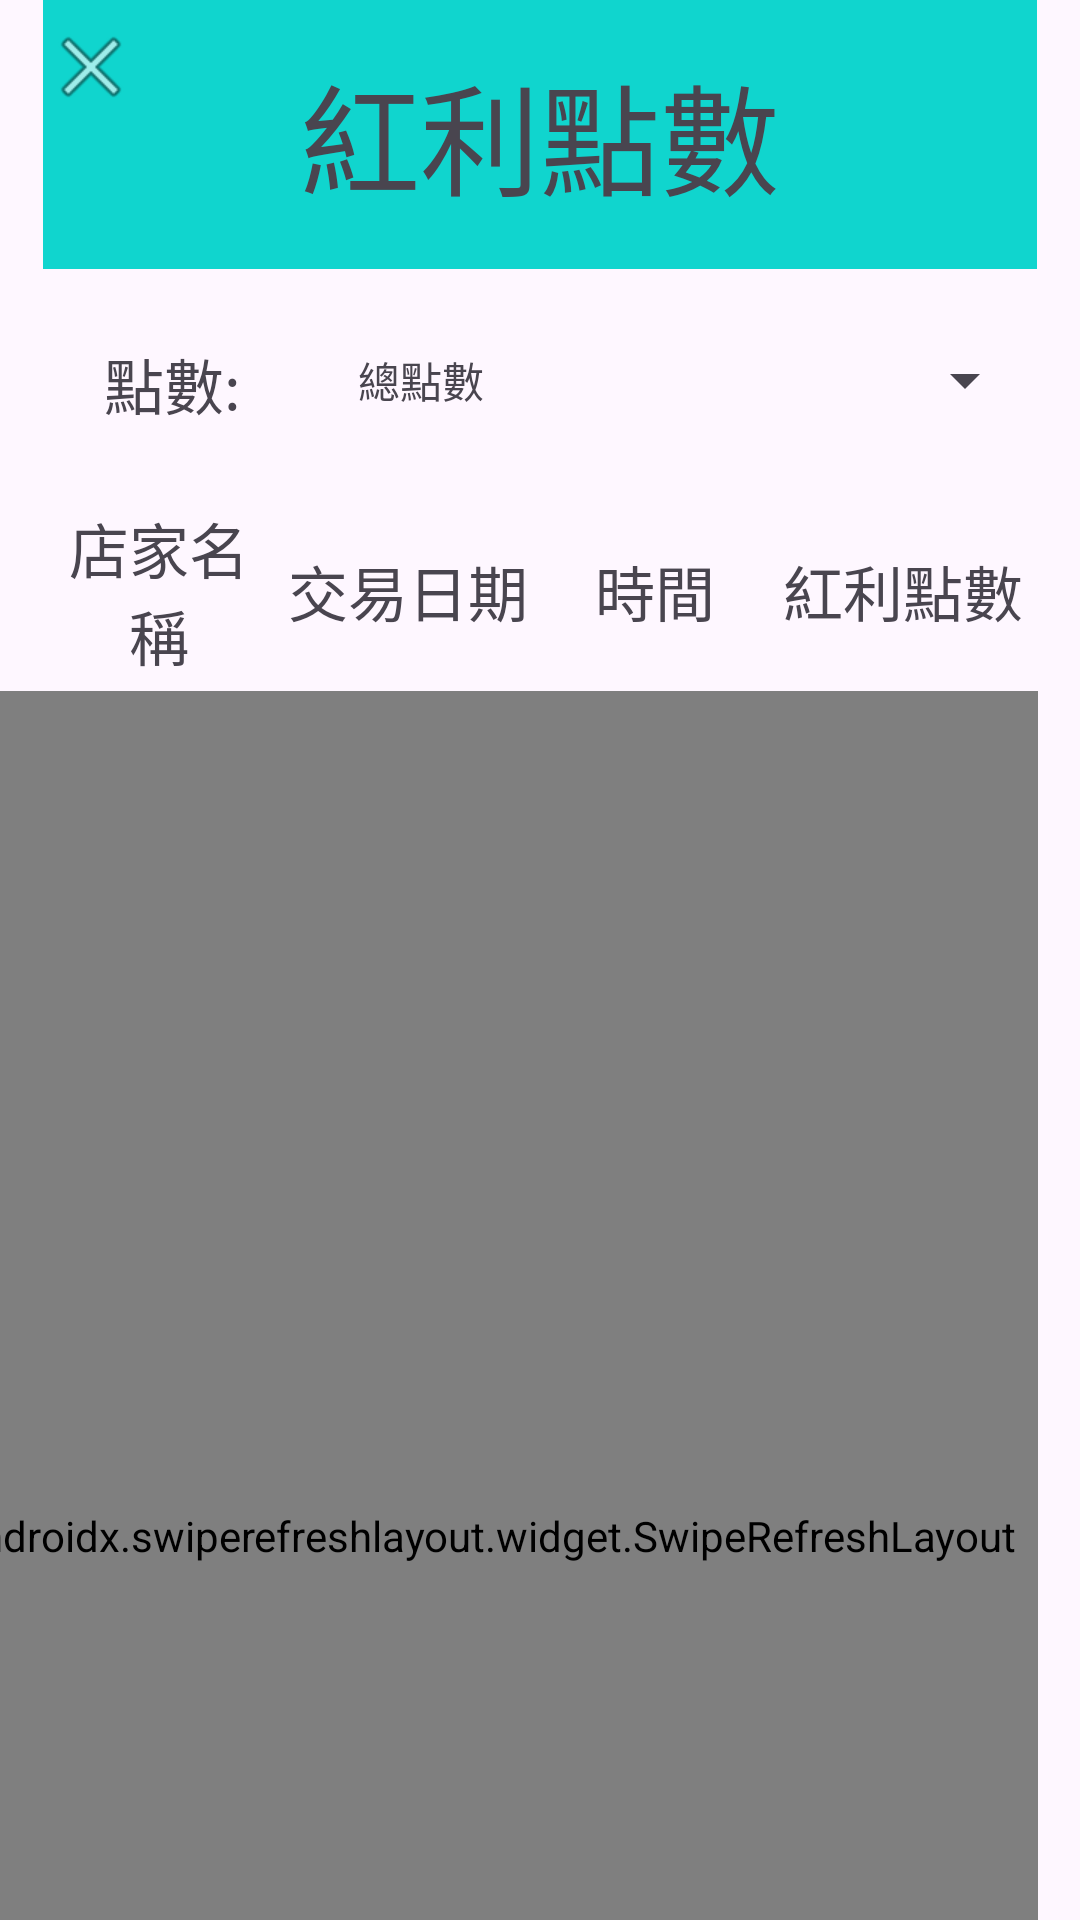

Screen size 1080 × 1920. Icon name, then its center in pixels as [x,y]:
close clear cancel: [91,67]
